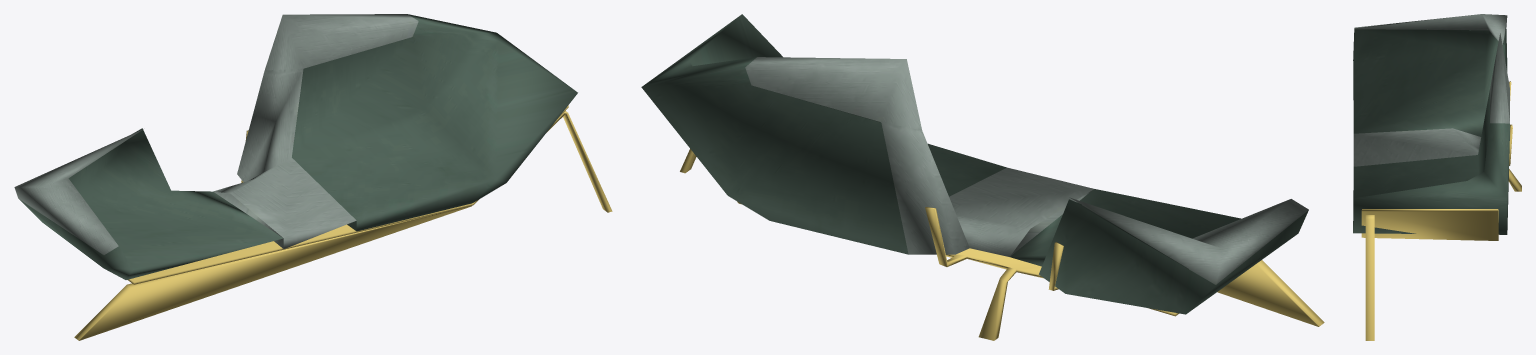
Rendered from furniture_delica_couch.glb.
3 renders of one model, left to right at view 1: azimuth 30°, elevation 25°; view 2: azimuth 150°, elevation 25°; view 3: azimuth 270°, elevation 25°, orthographic. The views are drawn at different scales.
Visible parts, largest first — view 1: DelicaCouch_DarkerFabric_0, DelicaCouch_LightFabric_0, DelicaCouch_Gold_0; view 2: DelicaCouch_DarkerFabric_0, DelicaCouch_LightFabric_0, DelicaCouch_Gold_0; view 3: DelicaCouch_DarkerFabric_0, DelicaCouch_LightFabric_0, DelicaCouch_Gold_0.
Boxes of the visible parts, x1=… form: DelicaCouch_DarkerFabric_0: x1=19, y1=14, x2=577, y2=279; DelicaCouch_LightFabric_0: x1=14, y1=14, x2=418, y2=254; DelicaCouch_Gold_0: x1=74, y1=105, x2=612, y2=340; DelicaCouch_DarkerFabric_0: x1=641, y1=14, x2=1308, y2=314; DelicaCouch_LightFabric_0: x1=745, y1=57, x2=1308, y2=284; DelicaCouch_Gold_0: x1=680, y1=149, x2=1324, y2=340; DelicaCouch_DarkerFabric_0: x1=1353, y1=29, x2=1509, y2=234; DelicaCouch_LightFabric_0: x1=1353, y1=14, x2=1509, y2=166; DelicaCouch_Gold_0: x1=1361, y1=81, x2=1521, y2=340.
Size of the model in its own units: 3.97 by 1.47 by 1.17.
Materials: 3 (2 with a texture image).
